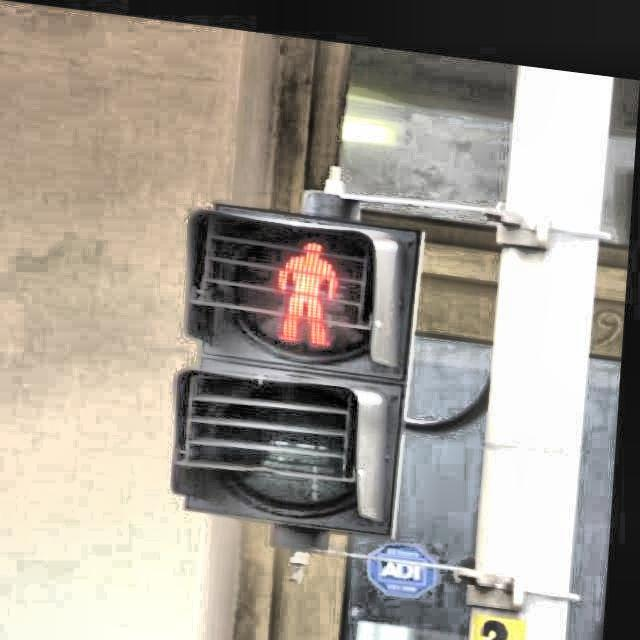semaforo pedestre: (130, 140, 458, 604)
